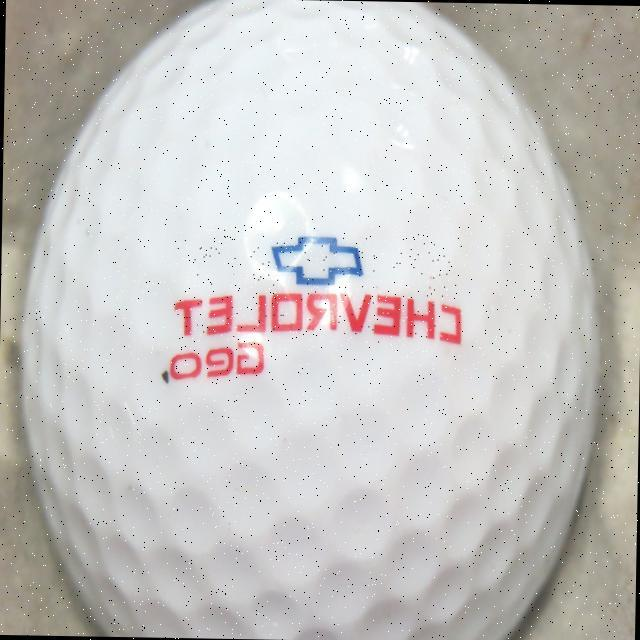Chevrolet: (175, 229, 464, 344)
